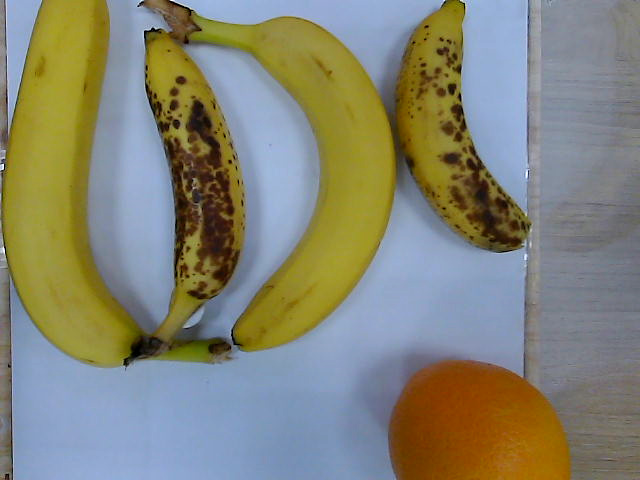fresh_banana: (231, 1, 398, 346), (4, 1, 142, 372)
fresh_orange: (389, 359, 571, 480)
rotten_banana: (392, 1, 536, 254), (139, 27, 246, 348)
